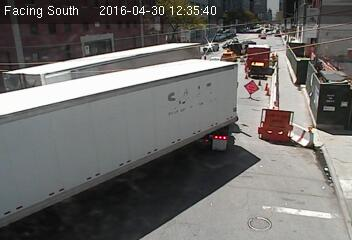pos: (268, 51, 280, 68)
